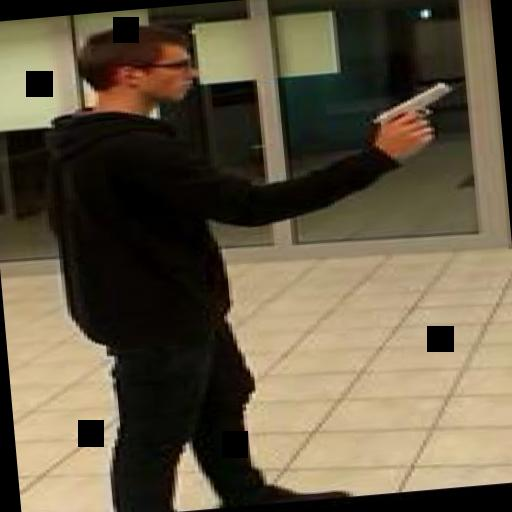Handgun: (364, 78, 452, 146)
